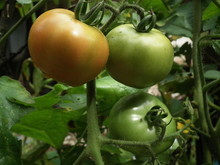tomato: (21, 7, 109, 91), (97, 12, 178, 86), (104, 91, 183, 160)
